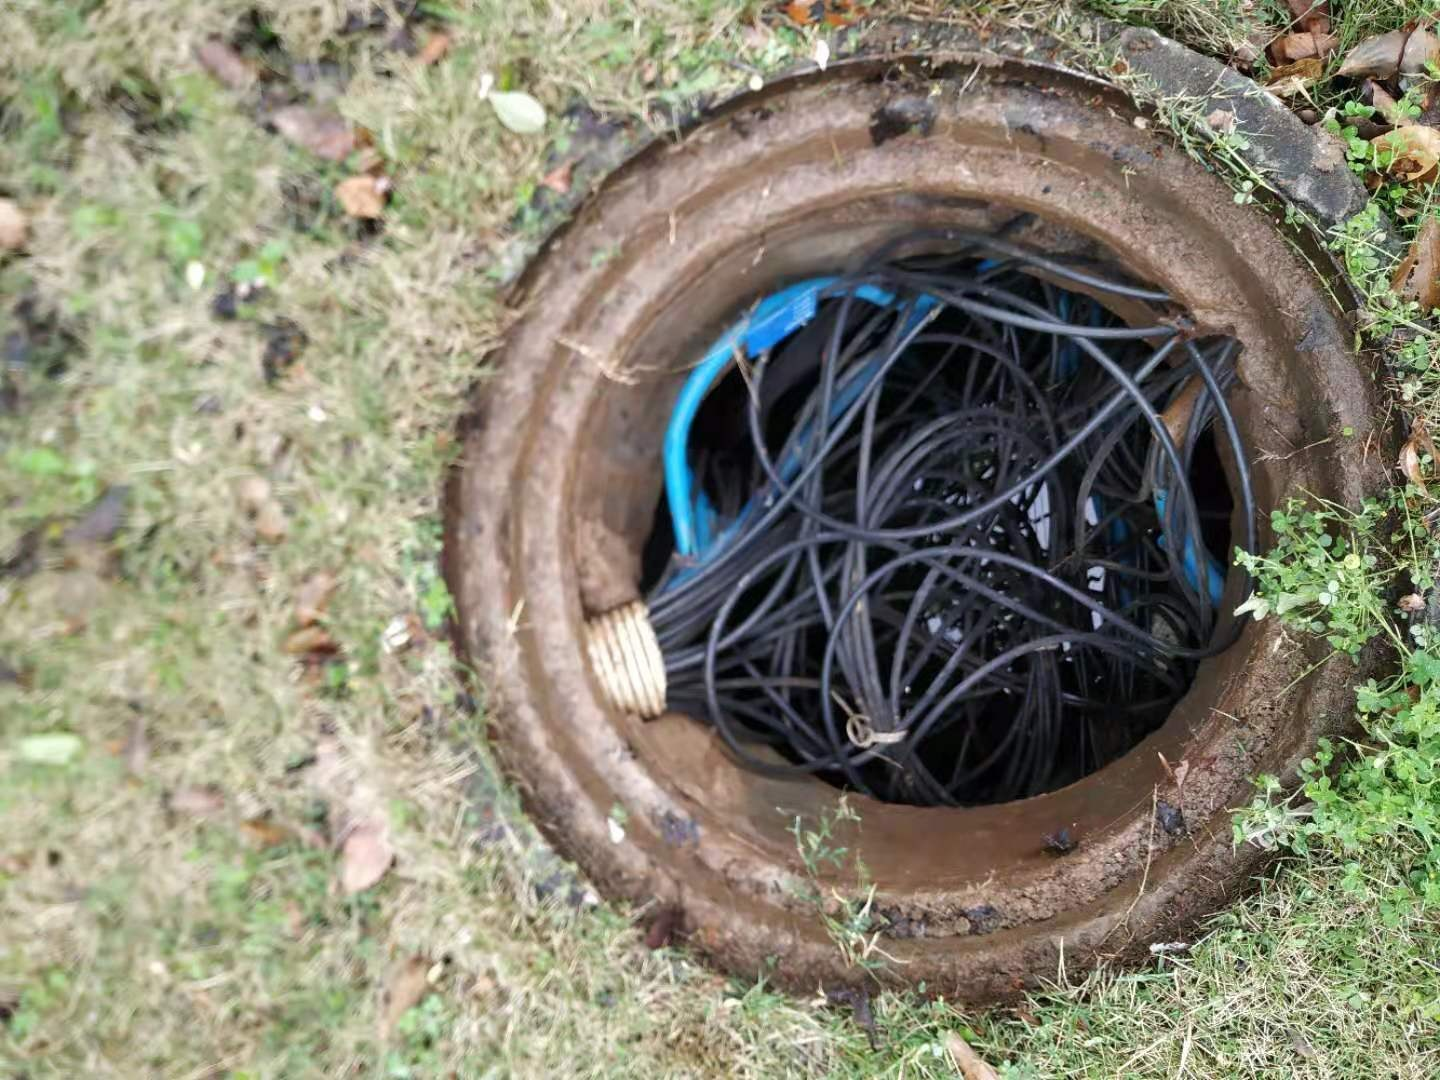lose: (447, 12, 1400, 1019)
